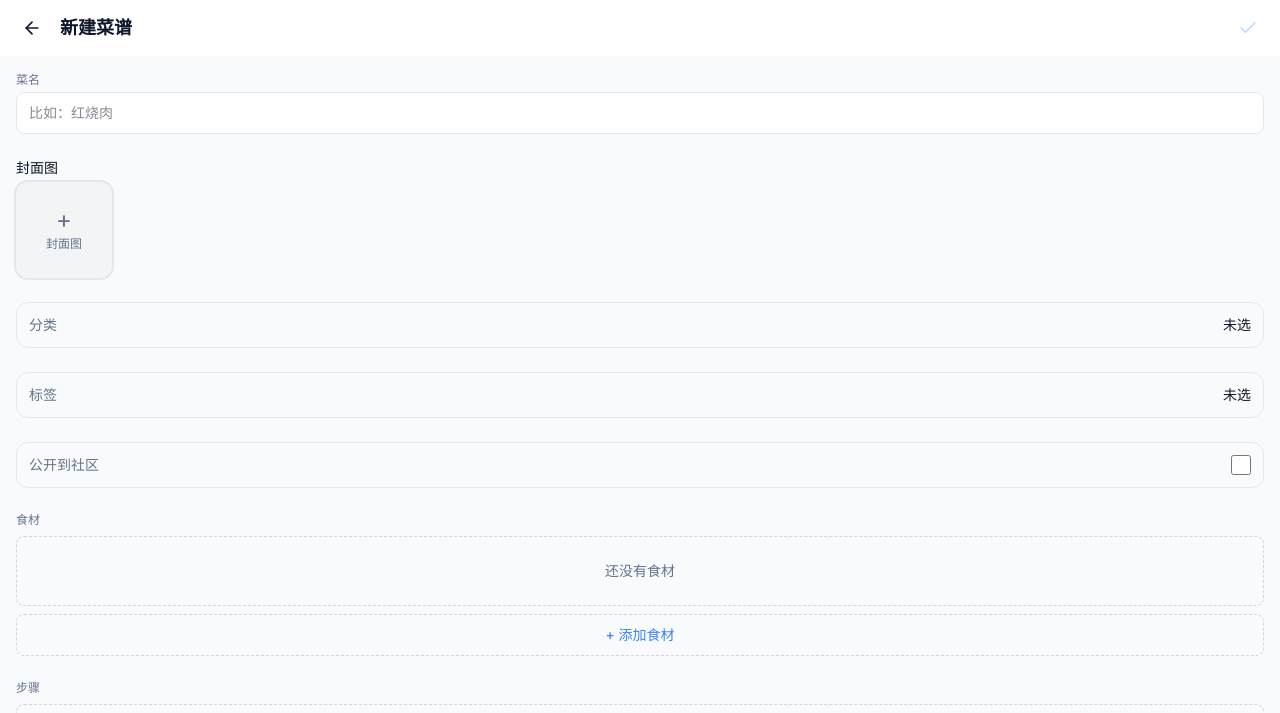
Test: RecipeEdit › 点标签行打开 RefSheet 多选，选中显示为 chip，点 chip 的 × 取消
Click the button with test id "tag-row".
click(43, 394)  # box [16,372,1264,418]
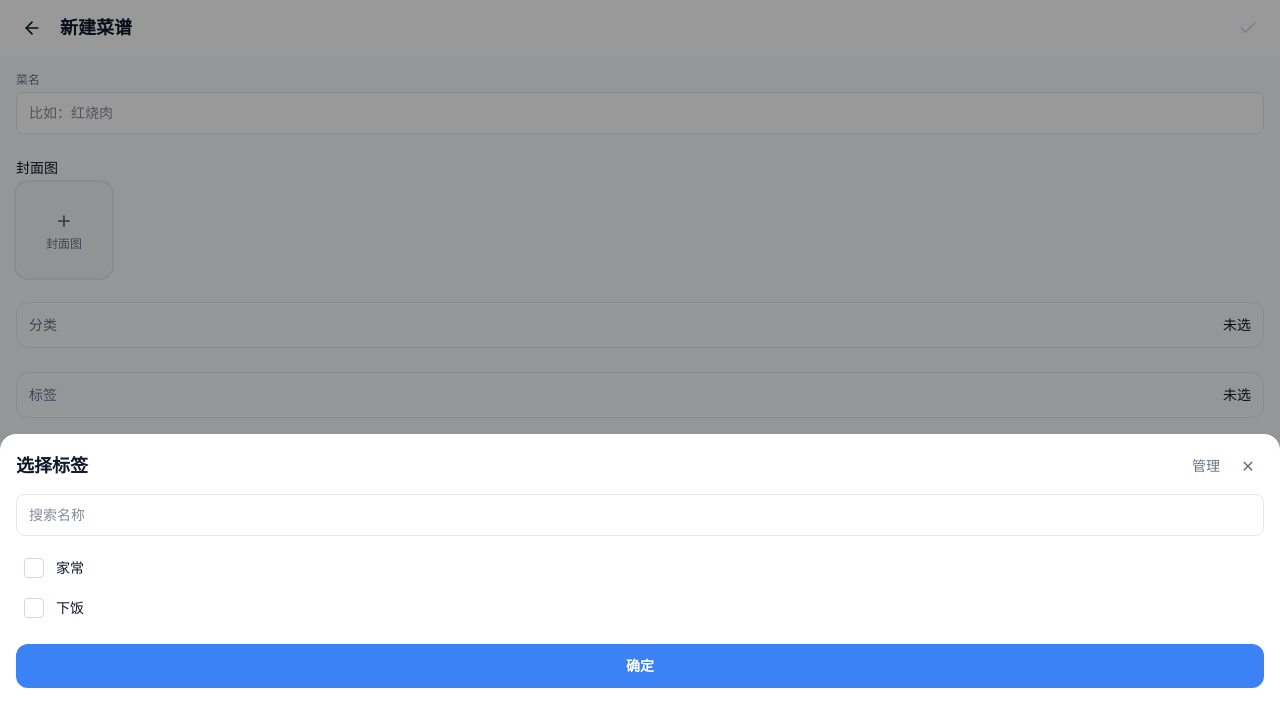
多选：点行只勾选，不对外发选择
Click the element with test id "ref-row" showing "家常".
click(54, 568)  # box [24,558,84,578]
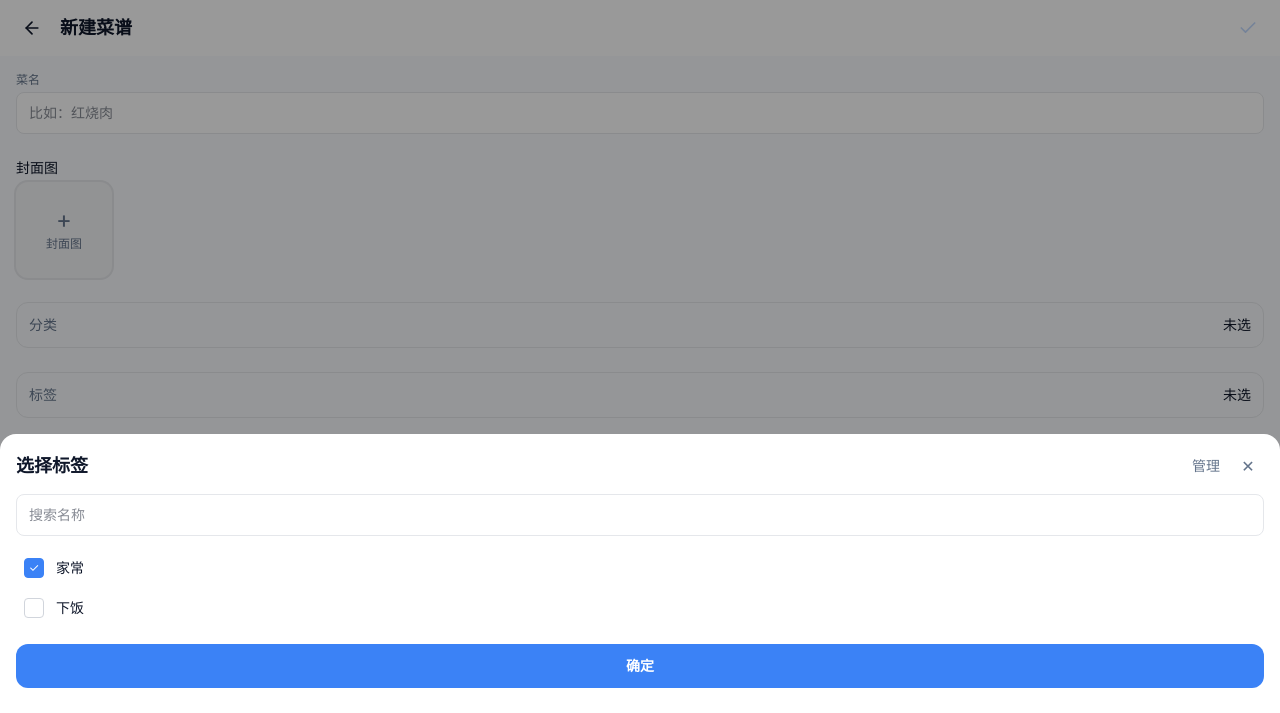
Click the element with test id "ref-row" showing "下饭".
click(54, 608)  # box [24,598,84,618]
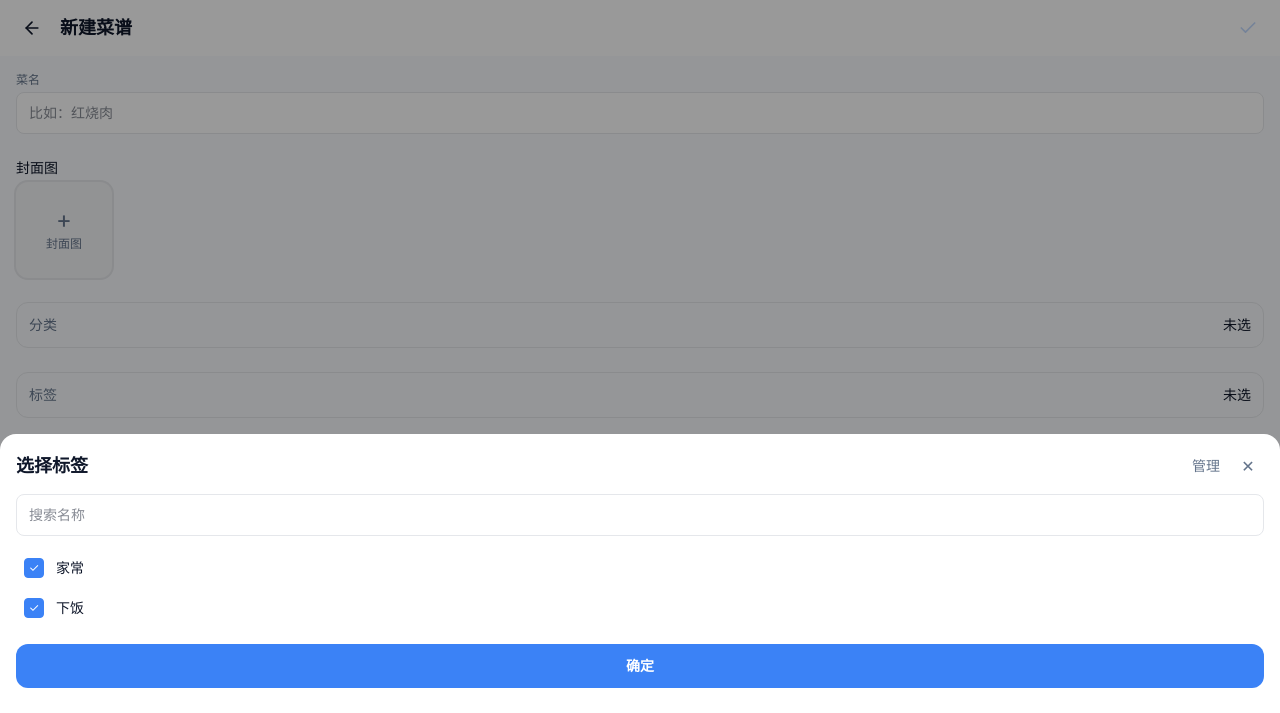
Click the button with test id "ref-confirm".
click(640, 666)  # box [16,644,1264,688]
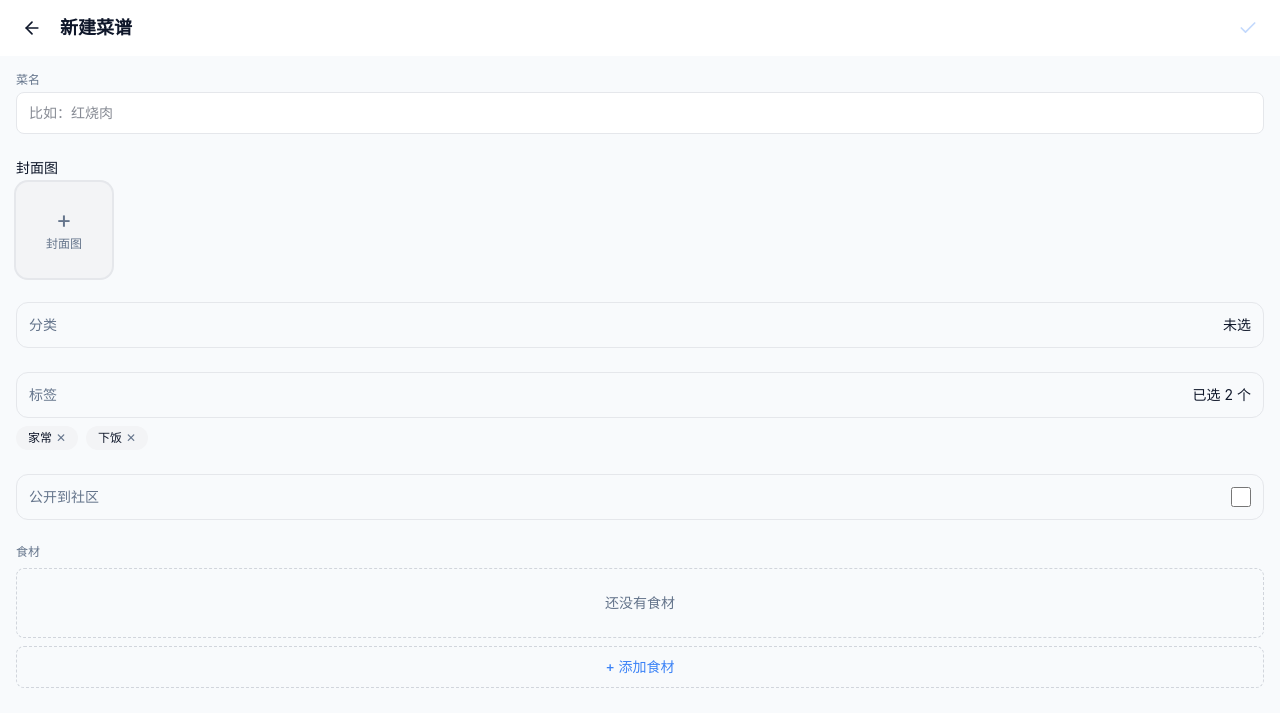
Now the elements with test id "tag-chip-name" read "家常", "下饭", in this order, box [28,430,52,446]; [98,430,122,446]
Click the button with test id "tag-remove" next to "家常".
click(61, 438)  # box [56,430,66,446]
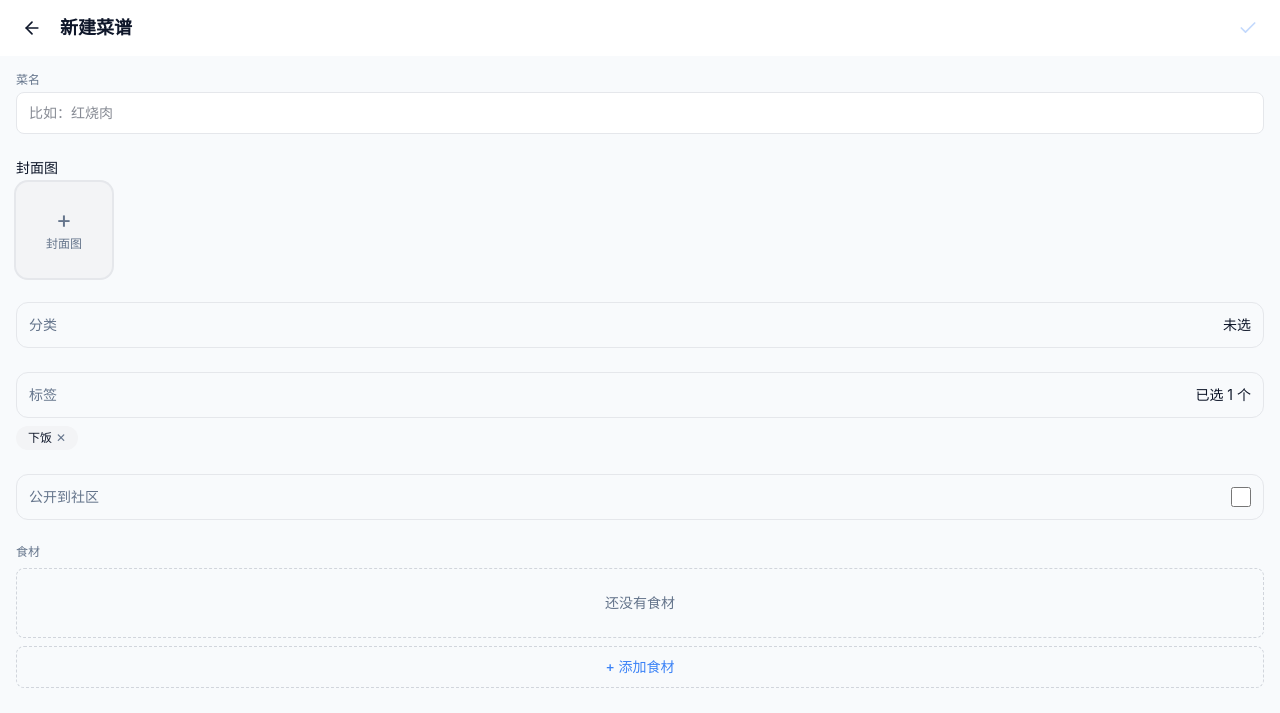
Now the elements with test id "tag-chip-name" read "下饭", in this order, box [28,430,52,446]
